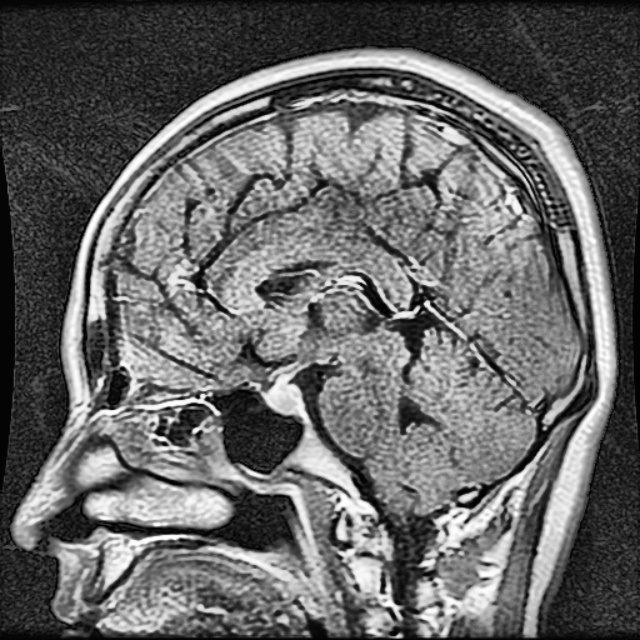Pituitary: (264, 375, 303, 414)
